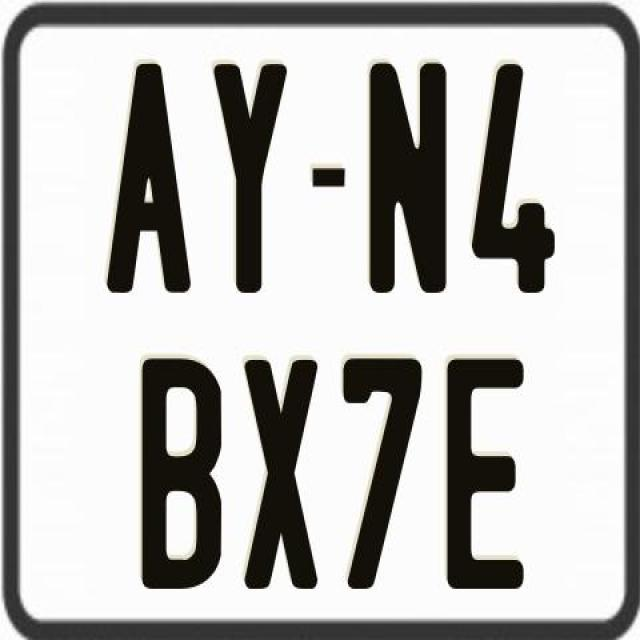4: (468, 64, 558, 301)
7: (338, 355, 426, 592)
A: (102, 59, 194, 294)
B: (142, 358, 222, 590)
E: (445, 357, 527, 592)
N: (366, 59, 446, 299)
X: (244, 355, 323, 586)
Y: (210, 62, 288, 301)
